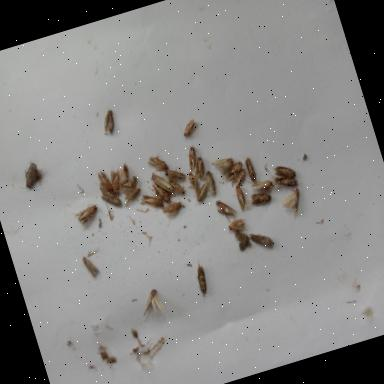pbw: (244, 188, 275, 214), (190, 257, 210, 296), (137, 288, 163, 316), (149, 170, 175, 198), (74, 201, 102, 227), (280, 187, 304, 213), (151, 179, 173, 206), (230, 182, 249, 212), (120, 185, 144, 208), (106, 167, 126, 194), (139, 190, 163, 212), (178, 116, 202, 138), (80, 252, 100, 278), (250, 229, 274, 250), (182, 143, 200, 170), (191, 180, 213, 202), (210, 154, 234, 174), (214, 196, 236, 217), (275, 172, 299, 191), (242, 154, 258, 182), (164, 164, 186, 184), (96, 168, 113, 193), (146, 152, 167, 172), (228, 167, 248, 188), (161, 200, 184, 218), (273, 162, 295, 180), (167, 175, 185, 196), (249, 177, 274, 192), (224, 158, 244, 176), (192, 154, 206, 178), (204, 170, 218, 194), (103, 190, 122, 207), (226, 216, 246, 232), (120, 174, 138, 189), (186, 170, 198, 190), (120, 162, 130, 178)
